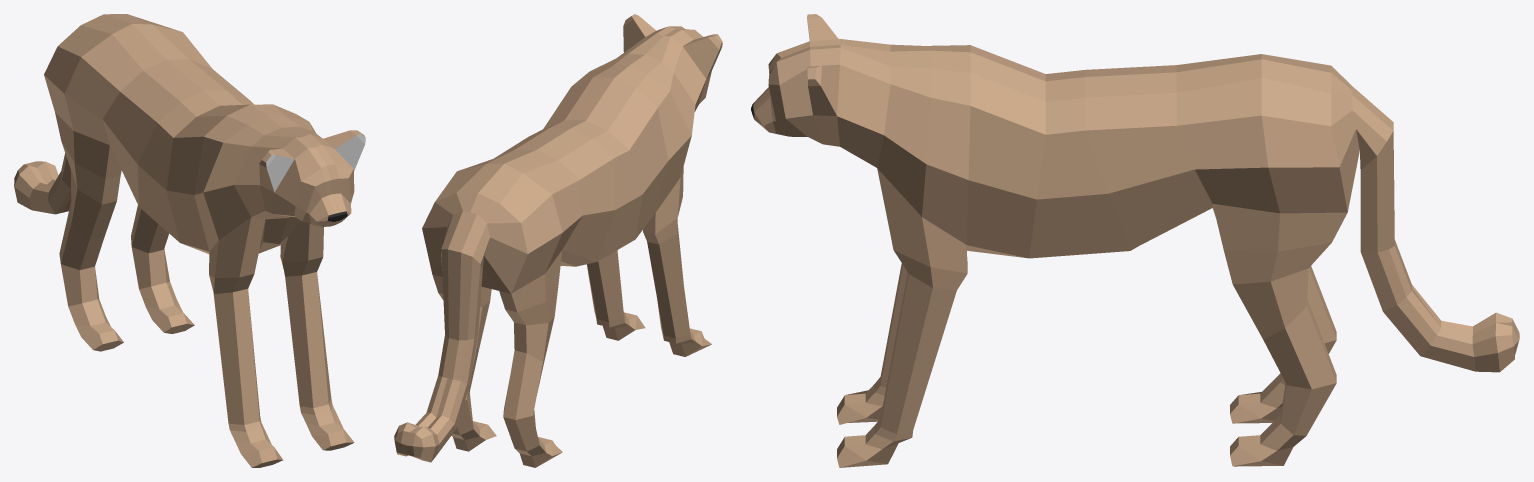
File: cheetah.fbx
The picture shows the model from 3 angles, left to right: view 1: azimuth 30°, elevation 25°; view 2: azimuth 150°, elevation 25°; view 3: azimuth 270°, elevation 25°; orthographic projection. The views are drawn at different scales.
Parts seen in each view (by area): view 1: Cheetah; view 2: Cheetah; view 3: Cheetah.
Boxes of the visible parts, x1,y1,x2,y2 form: Cheetah: (14,14,365,467); Cheetah: (394,14,722,467); Cheetah: (751,14,1519,467).
Bounding box in the file's own units: 57.68 × 138 × 240.
